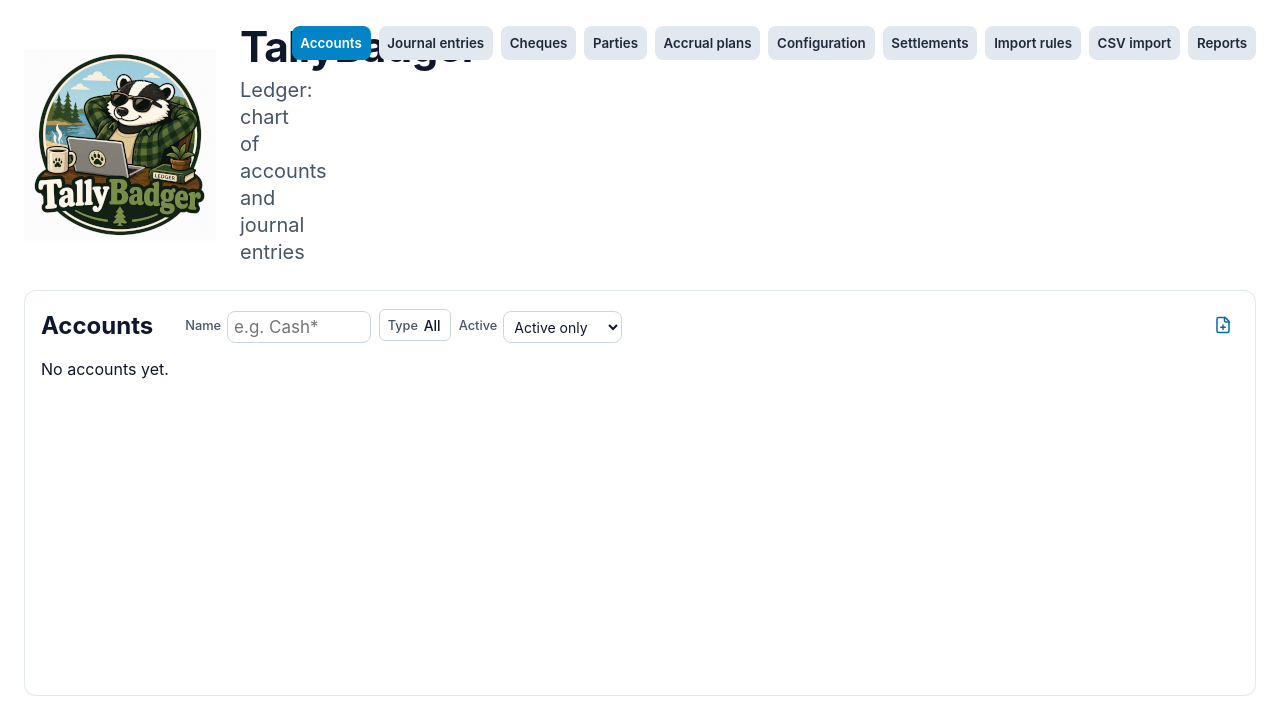
Test: App › creates an account successfully
The image size is (1280, 720).
Step 1. Click the button named "Create account" → (1223, 325), box [1207,309,1239,341]
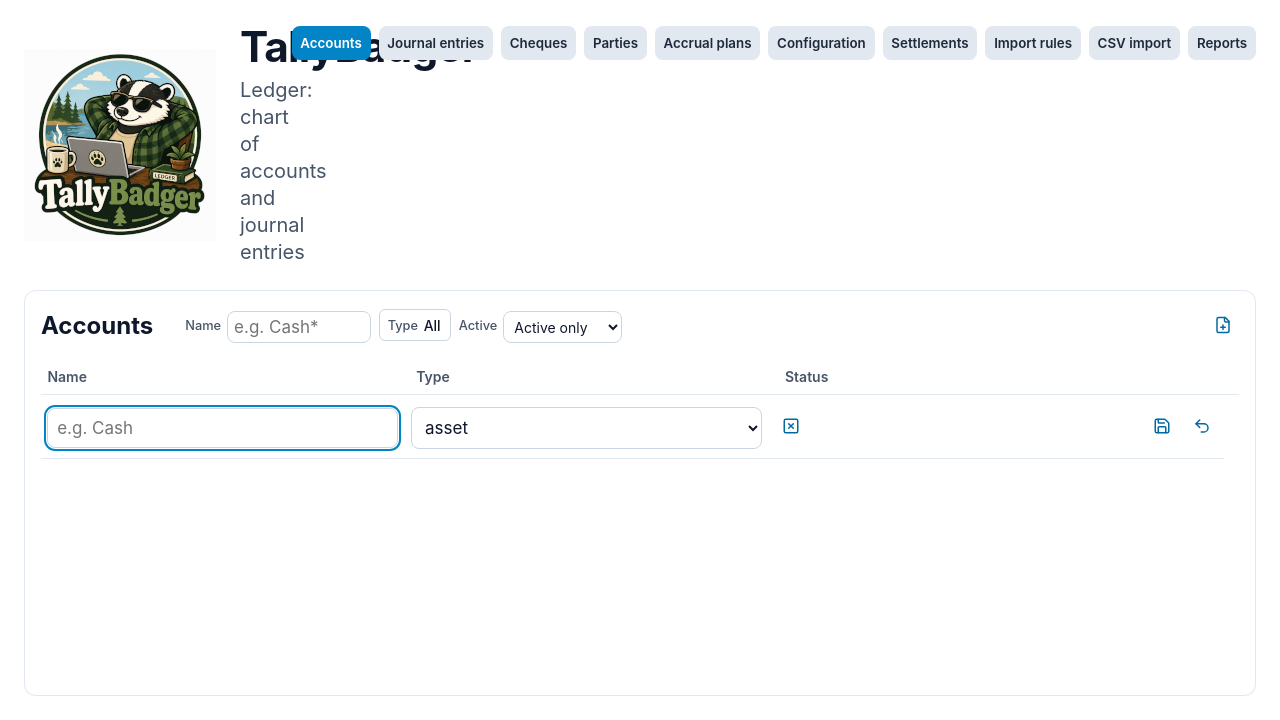
Step 2. Type "Repairs Expense" into the field named "New account name" → (223, 428), box [47,408,398,448]
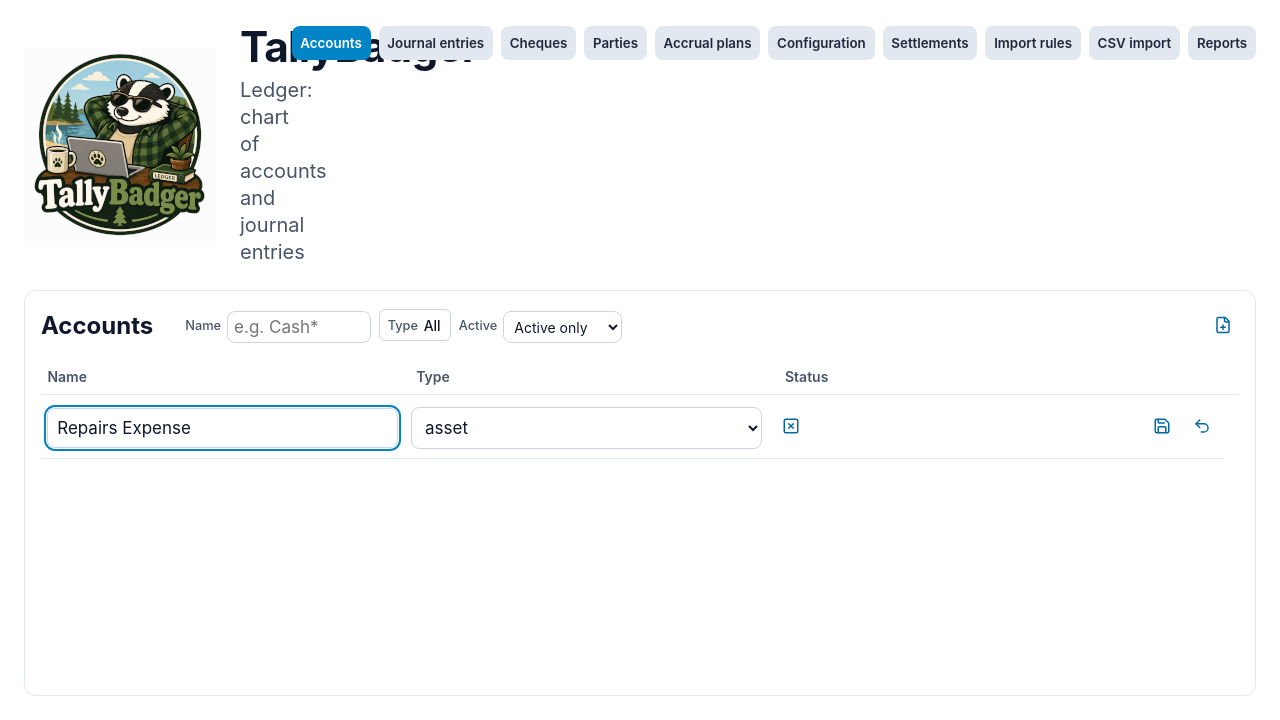
Step 3. Select "expense" in the dropdown named "New account type" → (587, 428), box [411,407,762,449]
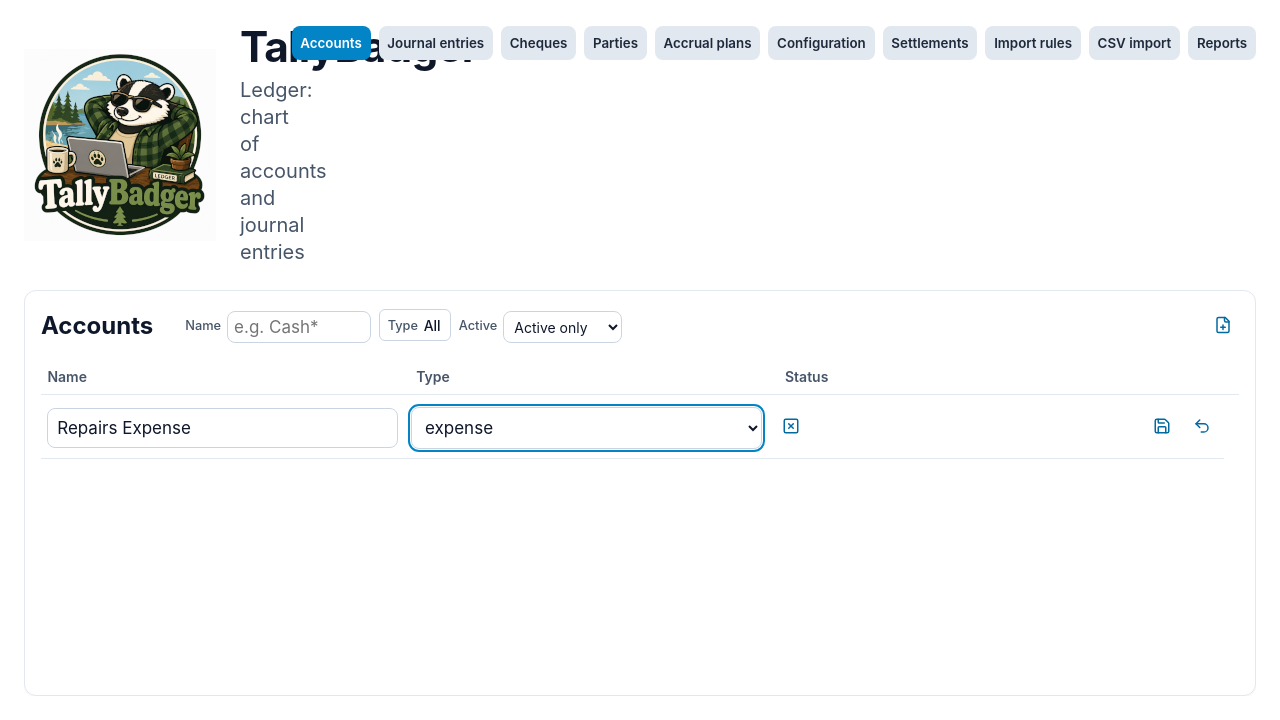
Step 4. Click the button named "Save new account (Ctrl+S)" → (1162, 426), box [1146,410,1178,442]
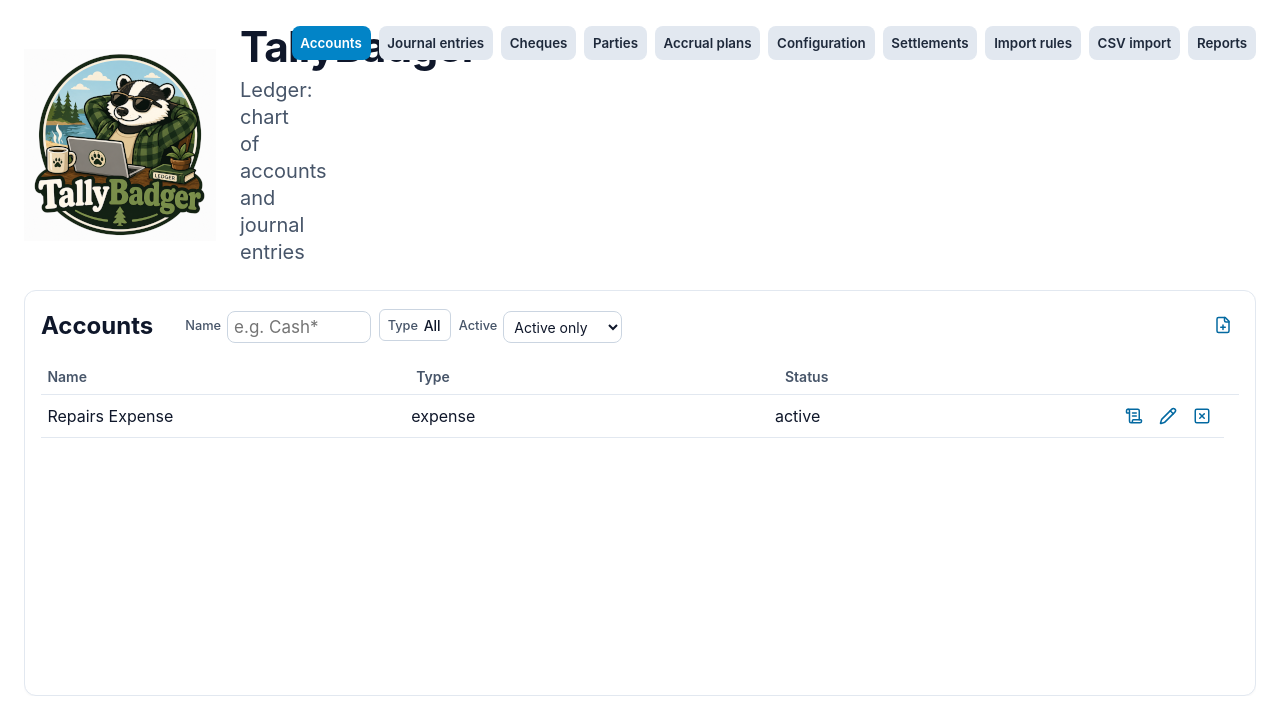
Check: the text "Repairs Expense" is shown, box [41,395,405,437]
